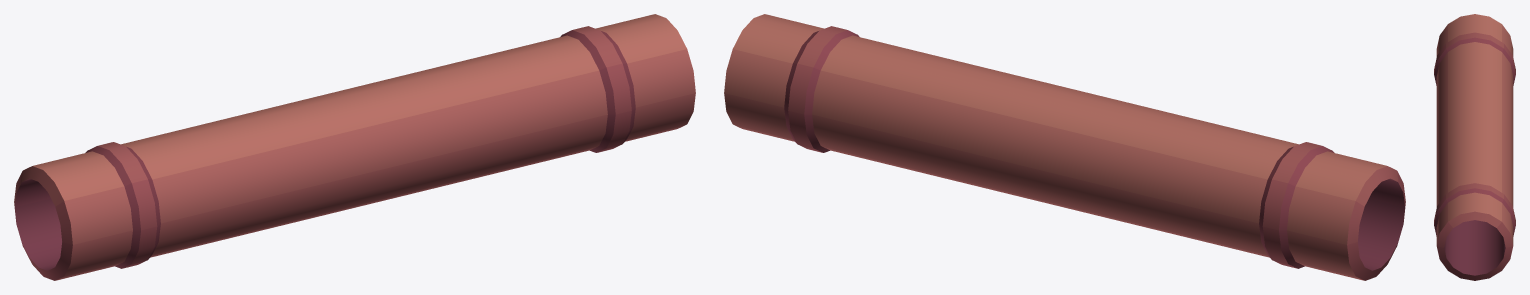
The model's file is Factory_ShortCube_2.fbx.
3 renders of one model, left to right at view 1: azimuth 30°, elevation 25°; view 2: azimuth 150°, elevation 25°; view 3: azimuth 270°, elevation 25°, orthographic. The views are drawn at different scales.
Visible parts, largest first — view 1: Factory_ShortCube_2; view 2: Factory_ShortCube_2; view 3: Factory_ShortCube_2.
Part boxes in pixels (x1,y1,x2,y2): Factory_ShortCube_2: (14, 14, 695, 280); Factory_ShortCube_2: (724, 14, 1405, 280); Factory_ShortCube_2: (1434, 14, 1515, 280).
Bounding box in the file's own units: 474 × 81.76 × 81.76.
